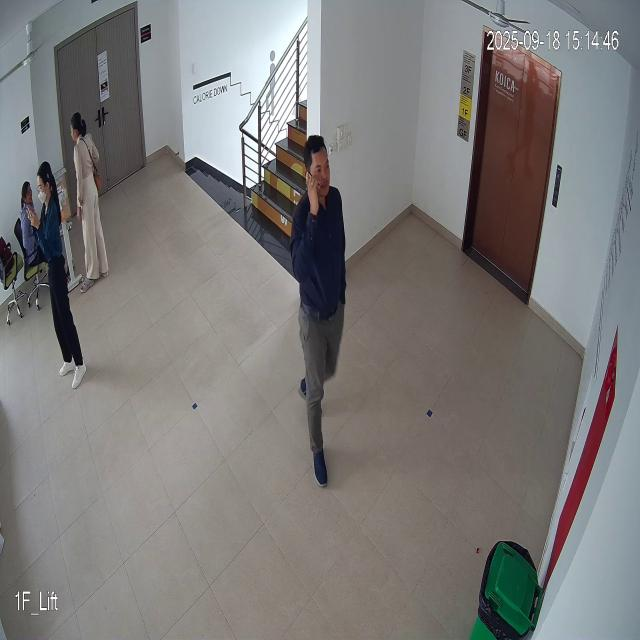face: (300, 133, 331, 201)
